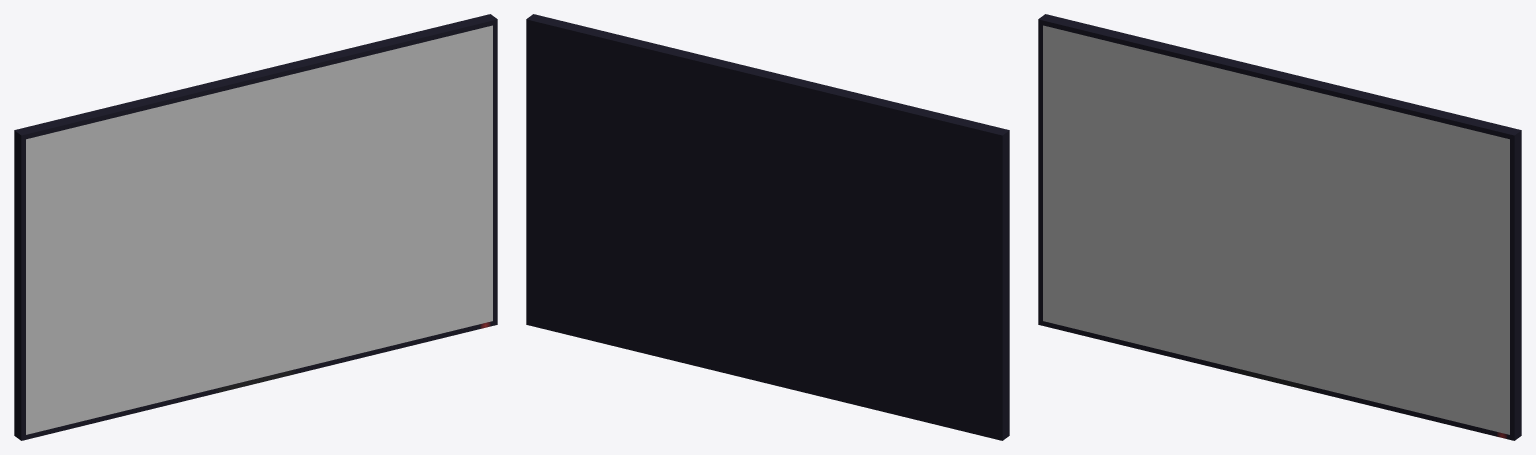
Rendered from SmallTV.fbx.
3 views of the same model, side by side, from view 1: azimuth 30°, elevation 25°; view 2: azimuth 150°, elevation 25°; view 3: azimuth 330°, elevation 25° (orthographic).
Parts seen in each view (by area): view 1: Small TV.033, Small TV; view 2: Small TV; view 3: Small TV.033, Small TV.
Boxes of the visible parts, <box> form: Small TV.033: <box>26,25,492,434</box>; Small TV: <box>14,14,497,440</box>; Small TV: <box>526,14,1009,440</box>; Small TV.033: <box>1043,25,1509,434</box>; Small TV: <box>1038,14,1521,440</box>.
Size of the model in its own units: 208 by 127 by 5.51.
